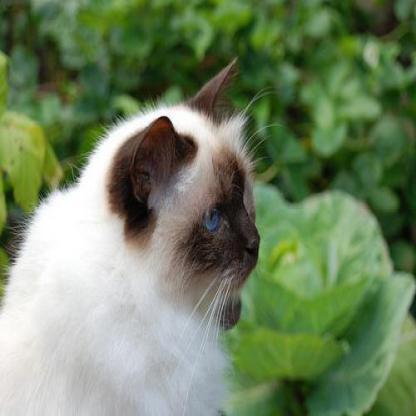cat: (0, 55, 260, 415)
